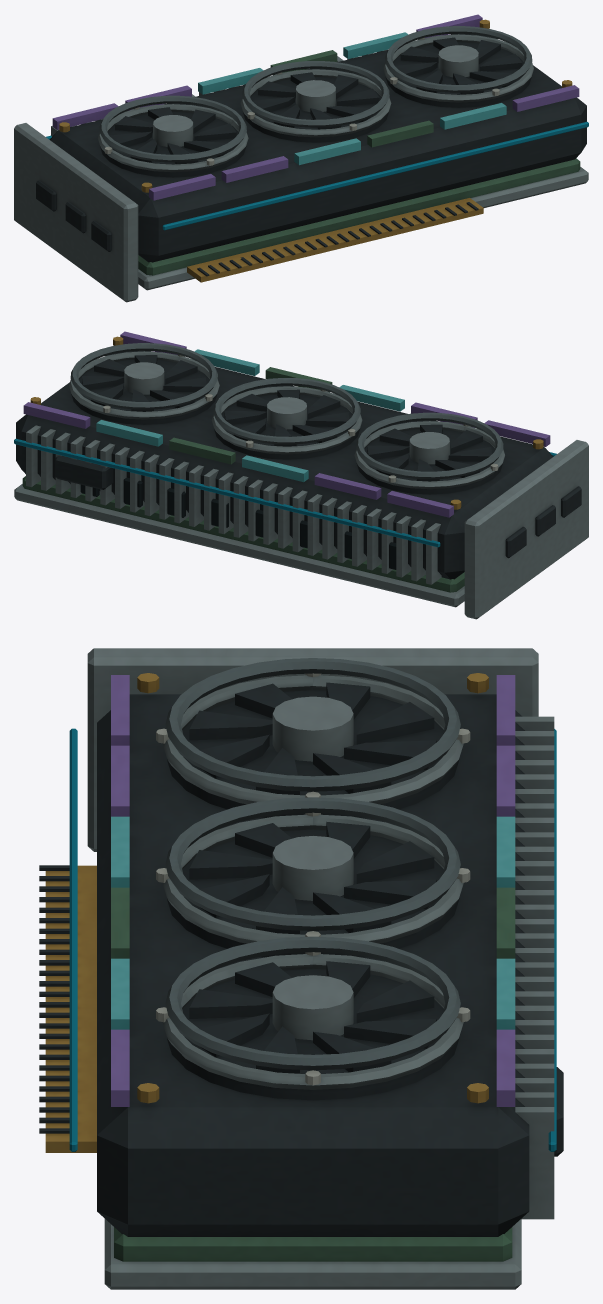
The model's file is graphics_card.obj.
3 renders of one model, top to bottom at view 1: azimuth 30°, elevation 25°; view 2: azimuth 150°, elevation 25°; view 3: azimuth 270°, elevation 25°, orthographic. The views are drawn at different scales.
Visible parts, largest first — view 1: graphics_card_static_0, Continuous_GPU_light_guide; view 2: graphics_card_static_0, Continuous_GPU_light_guide.001; view 3: graphics_card_static_0, Continuous_GPU_light_guide, Continuous_GPU_light_guide.001.
Part boxes in pixels (<box>): graphics_card_static_0: <box>14,14,588,302</box>; Continuous_GPU_light_guide: <box>162,121,588,230</box>; graphics_card_static_0: <box>14,331,588,619</box>; Continuous_GPU_light_guide.001: <box>14,438,440,547</box>; graphics_card_static_0: <box>39,648,563,1289</box>; Continuous_GPU_light_guide: <box>69,728,77,1151</box>; Continuous_GPU_light_guide.001: <box>548,729,556,1151</box>.
Bounding box in the file's own units: 0.354 × 0.081 × 0.1685.
Materials: 2 (1 with a texture image).
